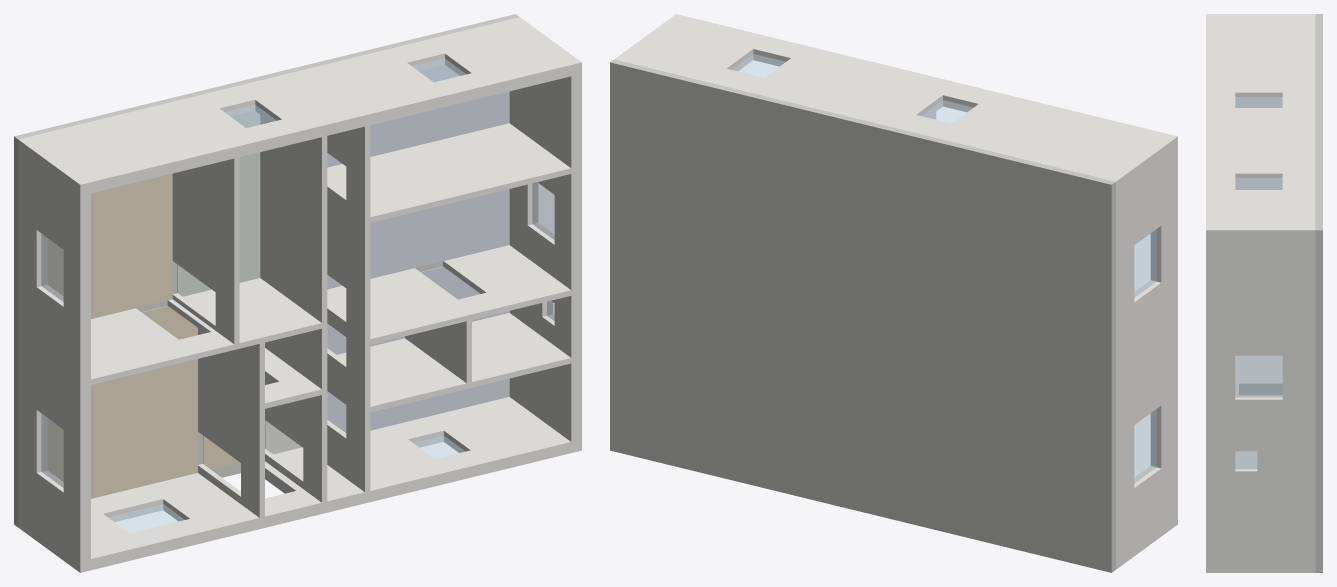
File: fixed_rooms_seed2.glb
The picture shows the model from 3 angles, left to right: view 1: azimuth 30°, elevation 25°; view 2: azimuth 150°, elevation 25°; view 3: azimuth 270°, elevation 25°; orthographic projection. The views are drawn at different scales.
Parts seen in each view (by area): view 1: wall_3, wall_6, wall_4, wall_2, wall_1, floor_salon1, floor_living1, wall_7, floor_master1, wall_5, wall_0, slab (+34 smaller); view 2: slab, wall_2, wall_3, wall_1, wall_4, wall_0, lintel_12, lintel_13, glass_12, glass_13, sill_12, sill_13 (+4 smaller); view 3: wall_4, wall_6, wall_2, wall_3, wall_5, slab, glass_15, sill_15, lintel_15, sill_16, lintel_16, sill_17 (+6 smaller).
Part boxes in pixels (box(x1,y1,x2,y2)): wall_3: box(167, 49, 450, 476); wall_6: box(327, 268, 581, 473); wall_4: box(327, 17, 581, 301); wall_2: box(18, 95, 262, 305); wall_1: box(18, 274, 197, 441); floor_salon1: box(47, 305, 197, 498); floor_living1: box(47, 173, 172, 318); wall_7: box(265, 420, 451, 515); floor_master1: box(327, 189, 509, 289); wall_5: box(443, 212, 581, 315); wall_0: box(18, 459, 146, 572); slab: box(14, 14, 519, 527); slab: box(610, 59, 1115, 572); wall_2: box(933, 92, 1177, 258); wall_3: box(746, 46, 958, 128); wall_1: box(1116, 271, 1177, 438); wall_4: box(614, 14, 769, 82); wall_0: box(1116, 456, 1177, 569); lintel_12: box(1150, 393, 1177, 468); lintel_13: box(1150, 213, 1177, 282); glass_12: box(1134, 409, 1156, 482); glass_13: box(1134, 229, 1156, 297); sill_12: box(1116, 425, 1134, 501); sill_13: box(1116, 245, 1134, 315); wall_4: box(1206, 190, 1315, 355); wall_6: box(1206, 355, 1315, 572); wall_2: box(1206, 14, 1315, 107); wall_3: box(1206, 108, 1315, 189); wall_5: box(1206, 395, 1315, 451); slab: box(1315, 14, 1322, 572); glass_15: box(1235, 356, 1282, 397); sill_15: box(1282, 355, 1315, 399); lintel_15: box(1206, 355, 1235, 399); sill_16: box(1257, 451, 1315, 471); lintel_16: box(1206, 451, 1235, 471); sill_17: box(1282, 173, 1315, 189).
Bounding box in the file's own units: 14 × 10.35 × 3.2.
